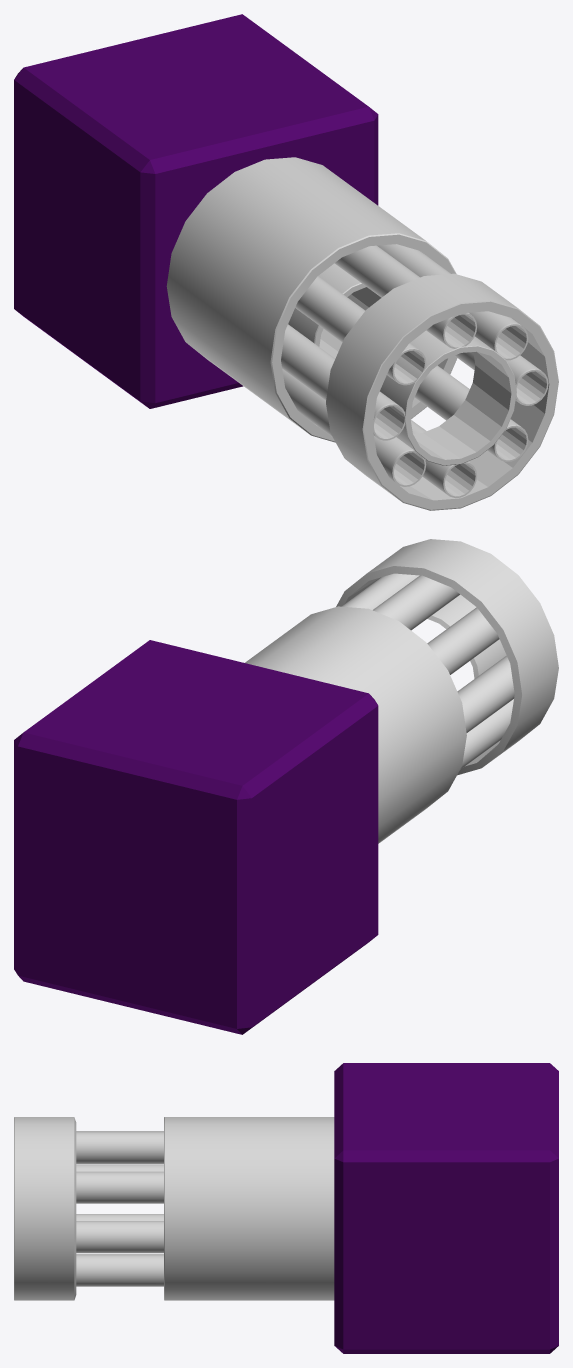
File: machineGunNew.fbx
3 renders of one model, top to bottom at view 1: azimuth 30°, elevation 25°; view 2: azimuth 150°, elevation 25°; view 3: azimuth 270°, elevation 25°, orthographic. The views are drawn at different scales.
Visible parts, largest first — view 1: barrel, machineGun; view 2: machineGun, barrel; view 3: machineGun, barrel.
Part boxes in pixels (x1,y1,x2,y2): barrel: (166, 157, 558, 510); machineGun: (14, 14, 378, 408); machineGun: (14, 640, 378, 1034); barrel: (245, 539, 558, 843); machineGun: (334, 1063, 558, 1353); barrel: (14, 1117, 334, 1300).
Bounding box in the file's own units: 2.2 × 2.2 × 5.34.
